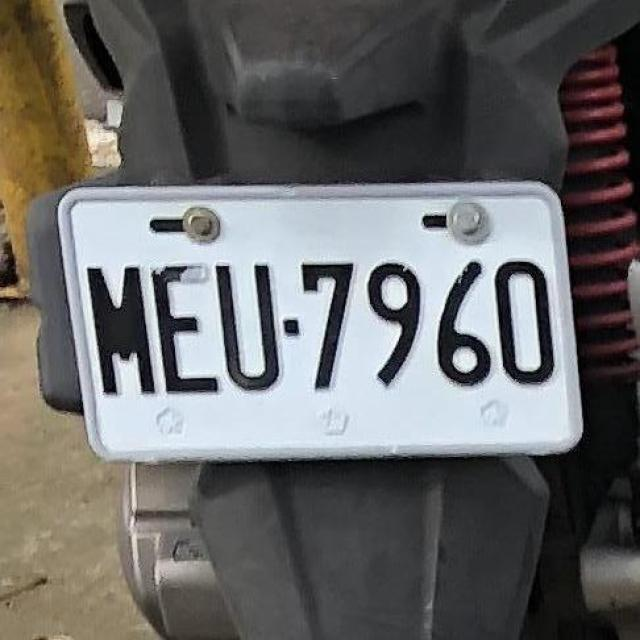W: (57, 179, 585, 461)
